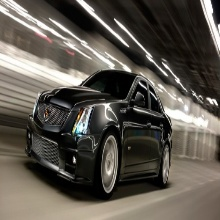no damage: (25, 69, 173, 198)
